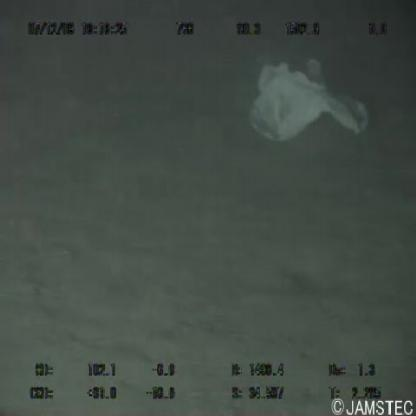Rác: (244, 48, 370, 160)
